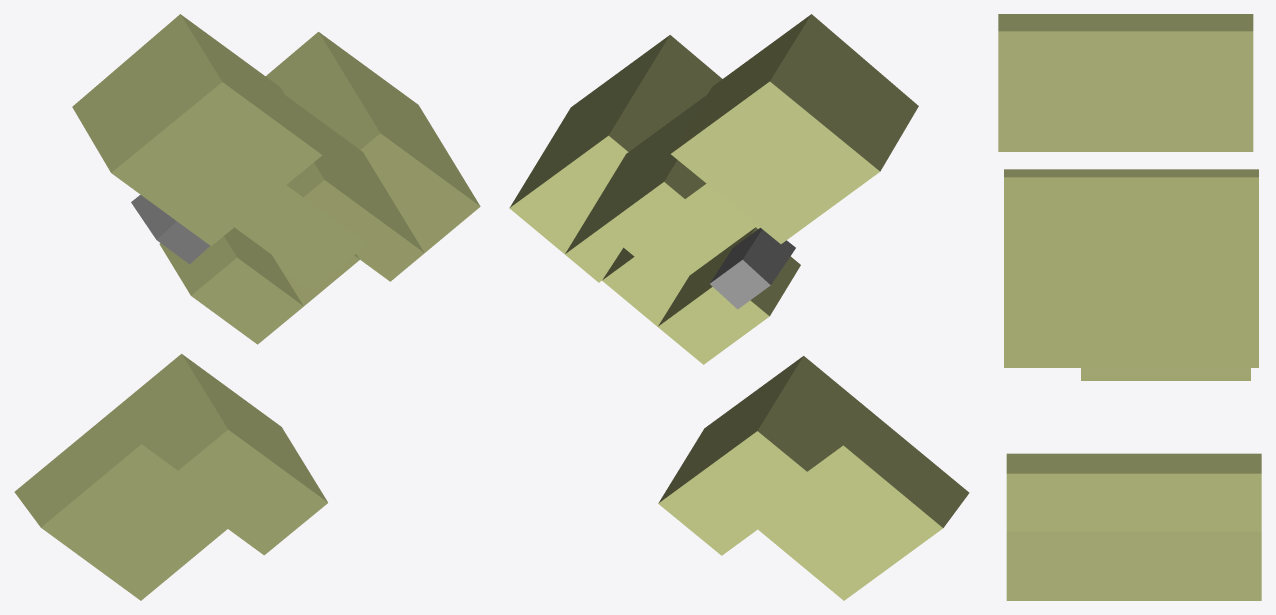
3 renders of one model, left to right at view 1: azimuth 30°, elevation 25°; view 2: azimuth 150°, elevation 25°; view 3: azimuth 270°, elevation 25°, orthographic. The views are drawn at different scales.
Parts seen in each view (by area): view 1: 0_1_1_3_2_2_3_0_2_3; view 2: 0_1_1_3_2_2_3_0_2_3; view 3: 0_1_1_3_2_2_3_0_2_3.
Part boxes in pixels (x1=…): 0_1_1_3_2_2_3_0_2_3: x1=14, y1=14, x2=480, y2=600; 0_1_1_3_2_2_3_0_2_3: x1=509, y1=14, x2=969, y2=600; 0_1_1_3_2_2_3_0_2_3: x1=998, y1=14, x2=1261, y2=600.
Size of the model in its own units: 18.95 by 23.95 by 9.3.
